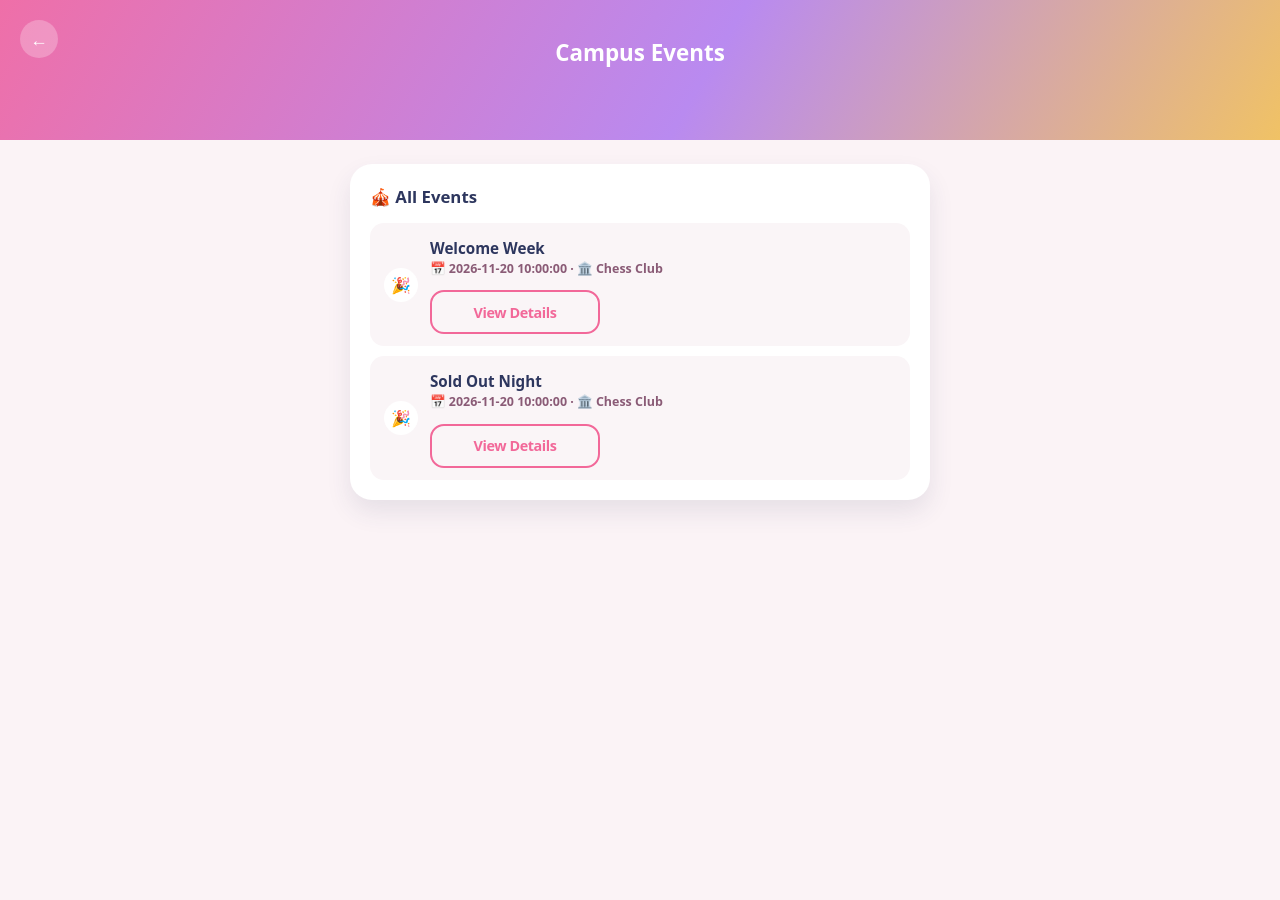
EventsPage › F7: clicking an event shows its details
What coordinates should you click on to do the following:
click the button "View Details" below "Welcome Week"
I would click on:
 (515, 312)
Its box is left=430, top=290, right=600, bottom=334.
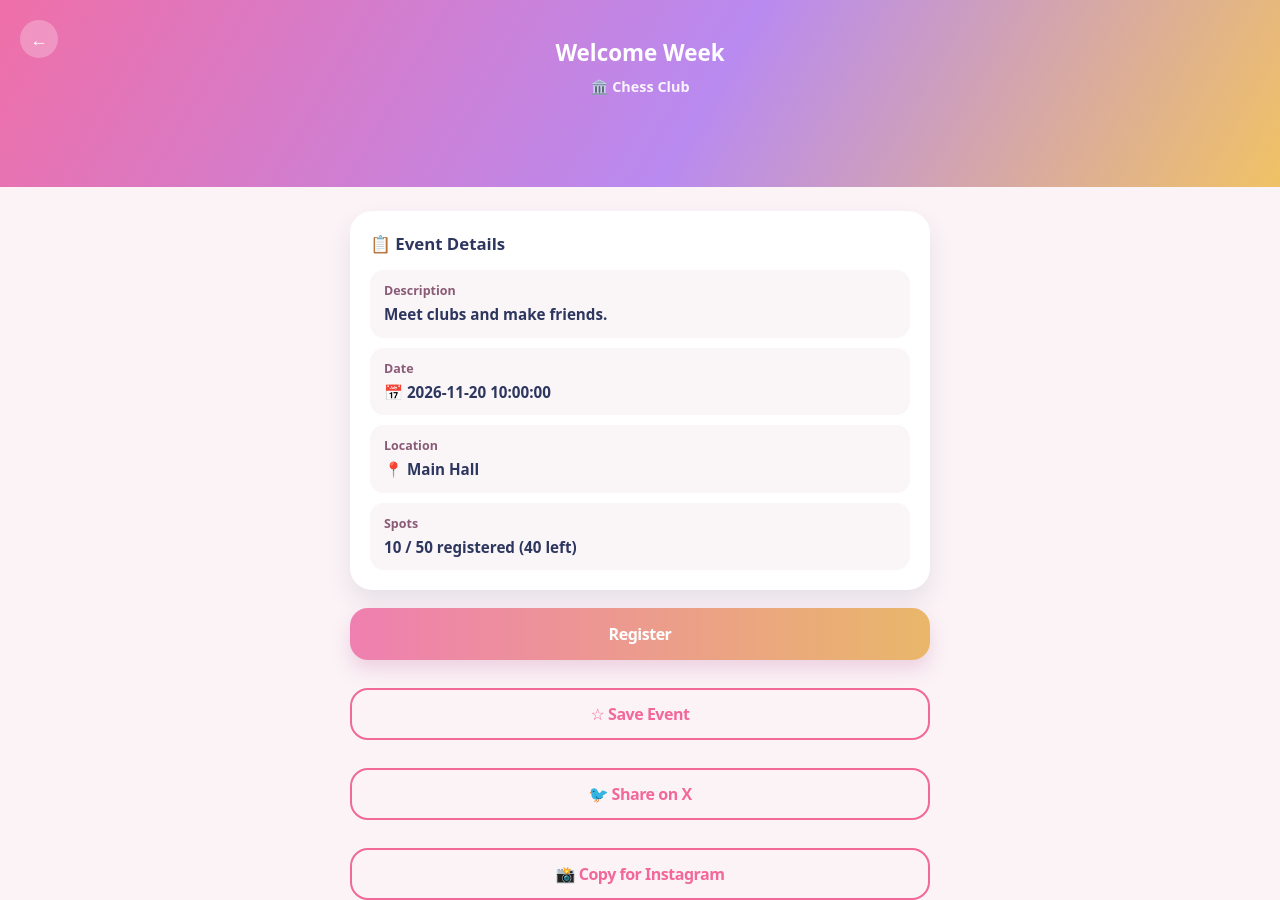
Now the heading "Welcome Week" is shown, box left=555, top=37, right=725, bottom=68
Now the text "Meet clubs and make friends." is shown, box left=384, top=304, right=607, bottom=324
Now the text "📍 Main Hall" is shown, box left=384, top=459, right=479, bottom=479
